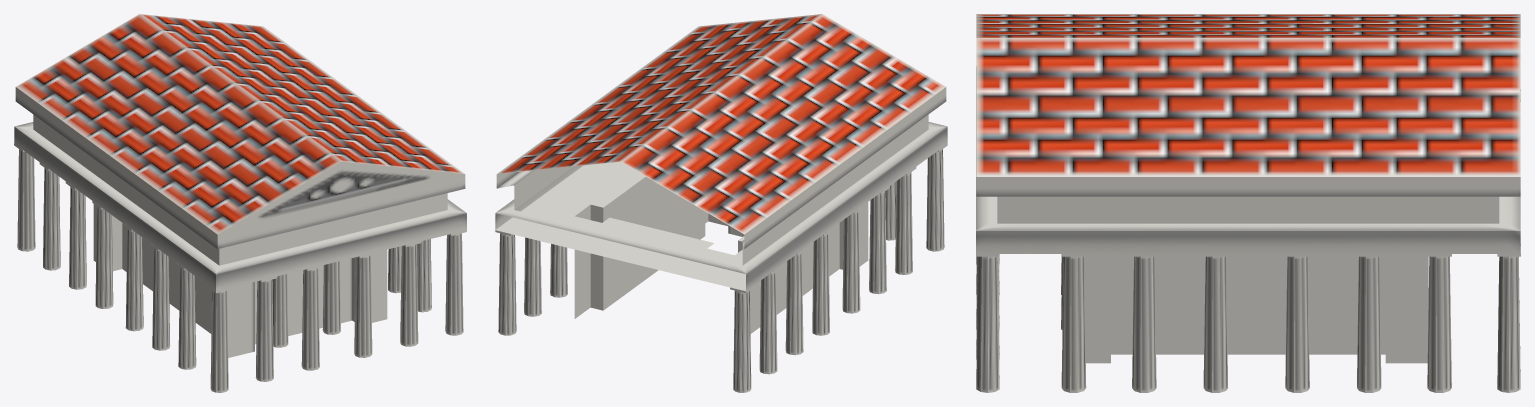
The model's file is Temple.fbx.
The picture shows the model from 3 angles, left to right: view 1: azimuth 30°, elevation 25°; view 2: azimuth 150°, elevation 25°; view 3: azimuth 270°, elevation 25°; orthographic projection. The views are drawn at different scales.
Parts seen in each view (by area): view 1: Temple1; view 2: Temple1; view 3: Temple1.
Part boxes in pixels (<box>): Temple1: <box>14,14,466,392</box>; Temple1: <box>495,14,947,392</box>; Temple1: <box>976,14,1520,392</box>.
Bounding box in the file's own units: 1911 × 1471 × 2665.
1 material, 1 textured.
